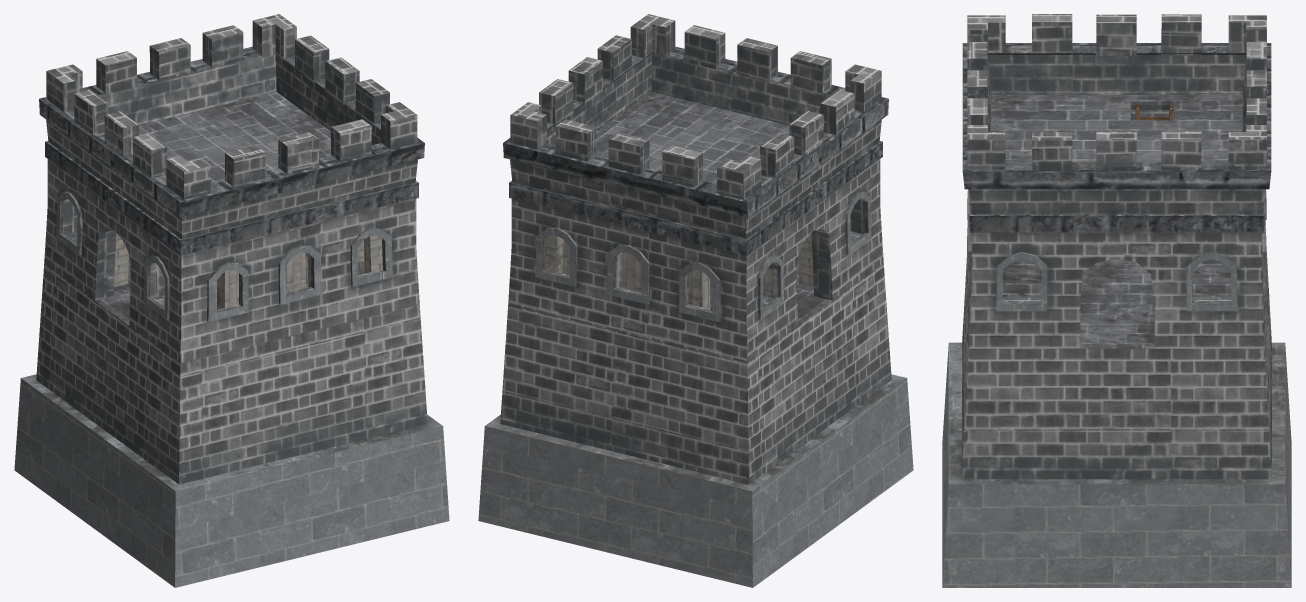
Rendered from asset.glb.
3 views of the same model, side by side, from view 1: azimuth 30°, elevation 25°; view 2: azimuth 150°, elevation 25°; view 3: azimuth 270°, elevation 25° (orthographic). The views are drawn at different scales.
Parts seen in each view (by area): view 1: transform20; view 2: transform20; view 3: transform20.
Part boxes in pixels (x1=…): transform20: x1=14, y1=14, x2=449, y2=587; transform20: x1=478, y1=14, x2=913, y2=587; transform20: x1=942, y1=14, x2=1291, y2=587.
Size of the model in its own units: 0.2502 by 0.351 by 0.2536.
1 material, 1 textured.
